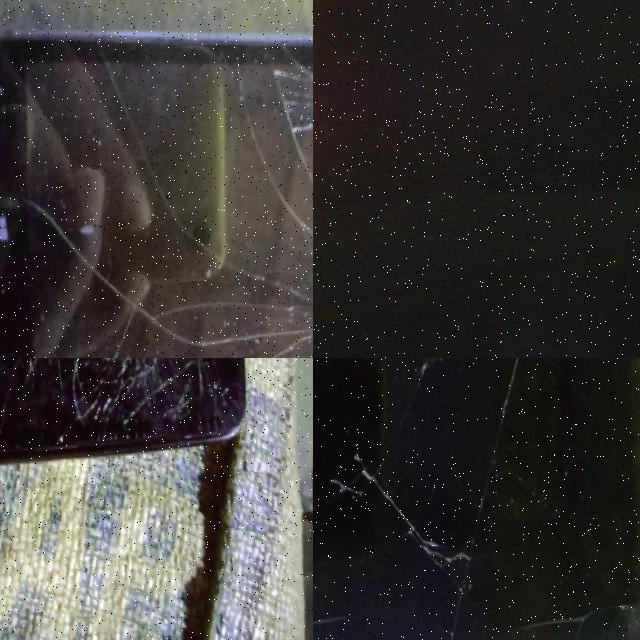screen crack: (25, 32, 313, 358), (345, 358, 562, 640), (19, 358, 250, 464)
